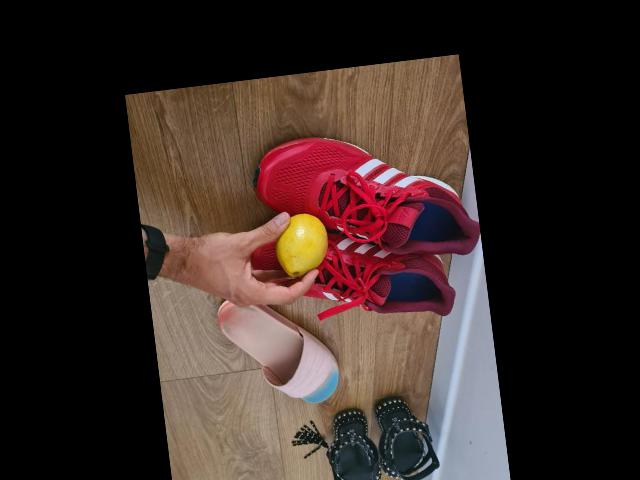lemon: (272, 210, 330, 280)
